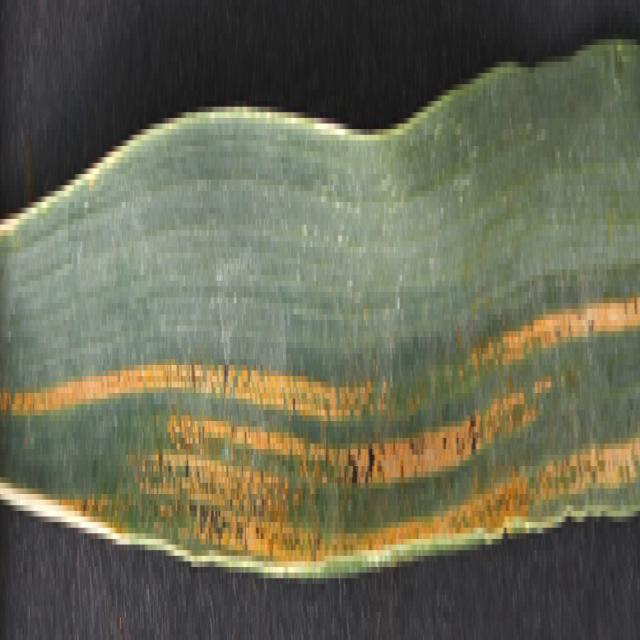leaf rust: (1, 252, 640, 556)
